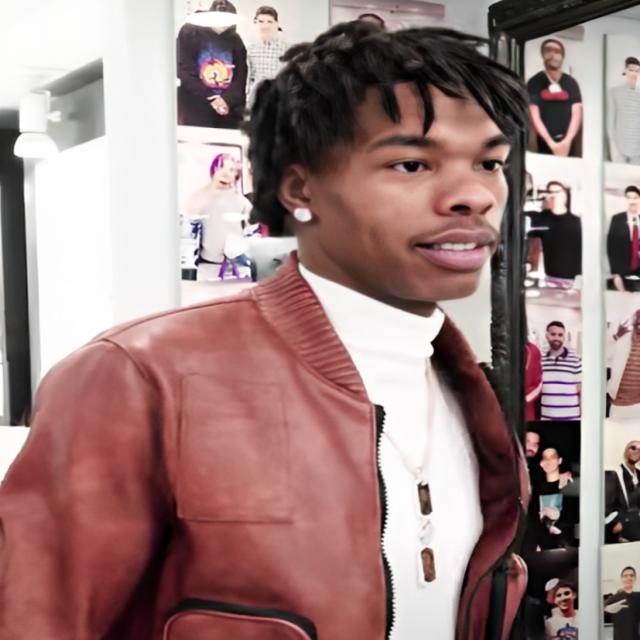adult: (0, 25, 544, 640), (171, 0, 250, 125), (182, 152, 251, 281), (528, 35, 582, 158), (529, 172, 583, 279), (532, 318, 584, 422), (600, 433, 640, 544), (249, 10, 290, 118), (603, 176, 640, 290), (534, 443, 576, 543), (606, 44, 640, 165), (606, 310, 640, 423), (598, 561, 640, 640), (550, 582, 577, 640), (518, 421, 542, 469)
